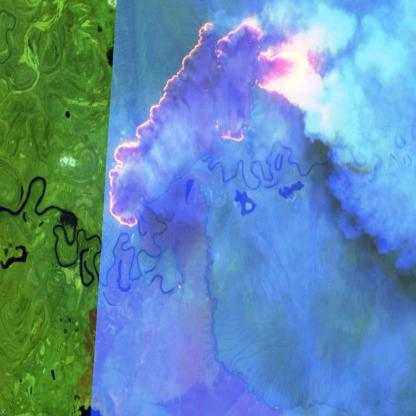fire: (101, 15, 330, 246)
